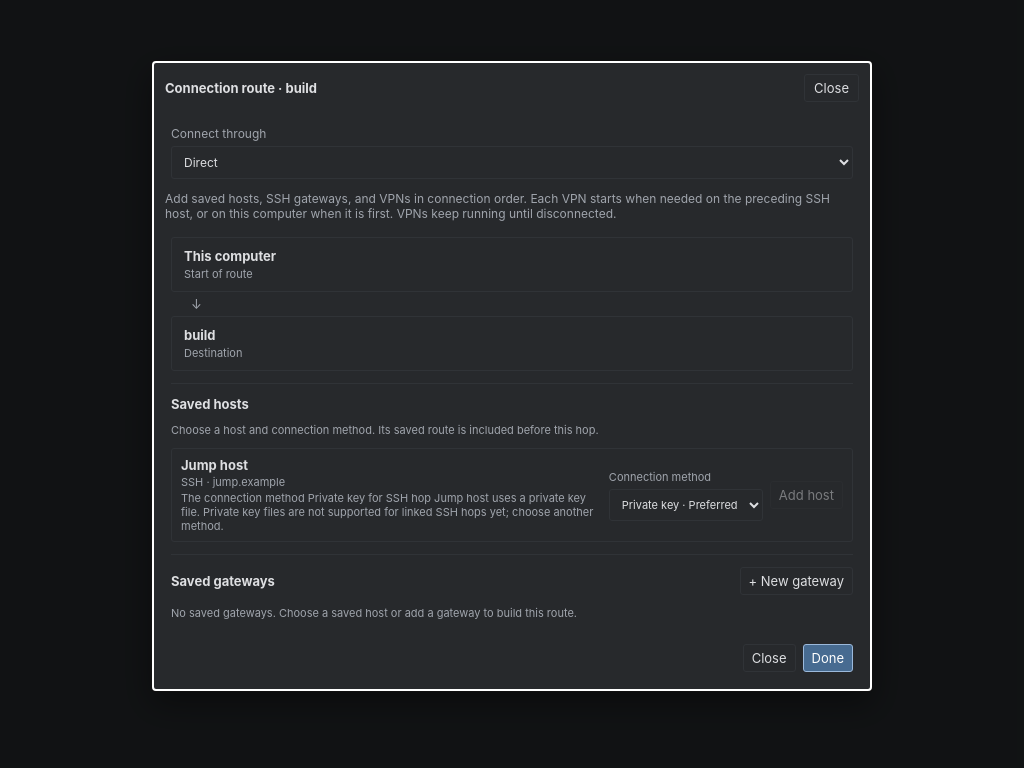
it: GatewayRouteDialog › explains unsupported hop key settings and allows another saved method
Expected: the button with aria-label "Add Jump host as hop" is disabled, [770,481,843,509]
Expected: the message shows "Private key files are not supported for linked SSH hops", [181,491,593,533]
Select "Direct SSH" in the dropdown named "Connection method for Jump host": (686, 505) [609,489,763,521]
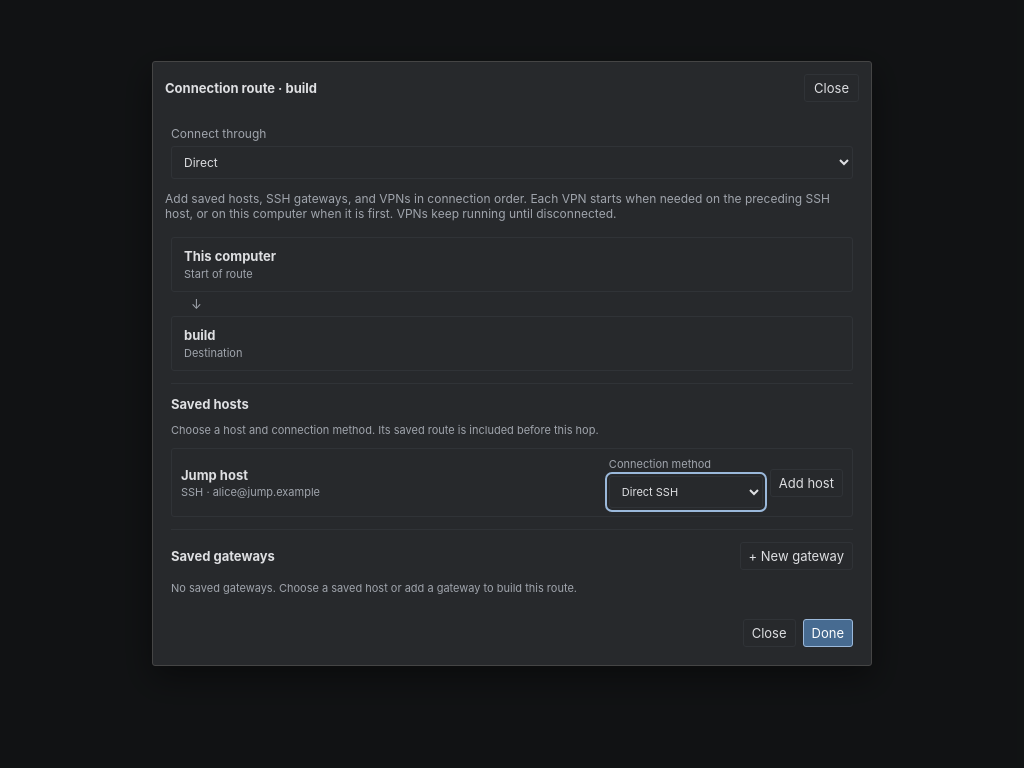
Now the button with aria-label "Add Jump host as hop" is enabled, box [770,469,843,497]
